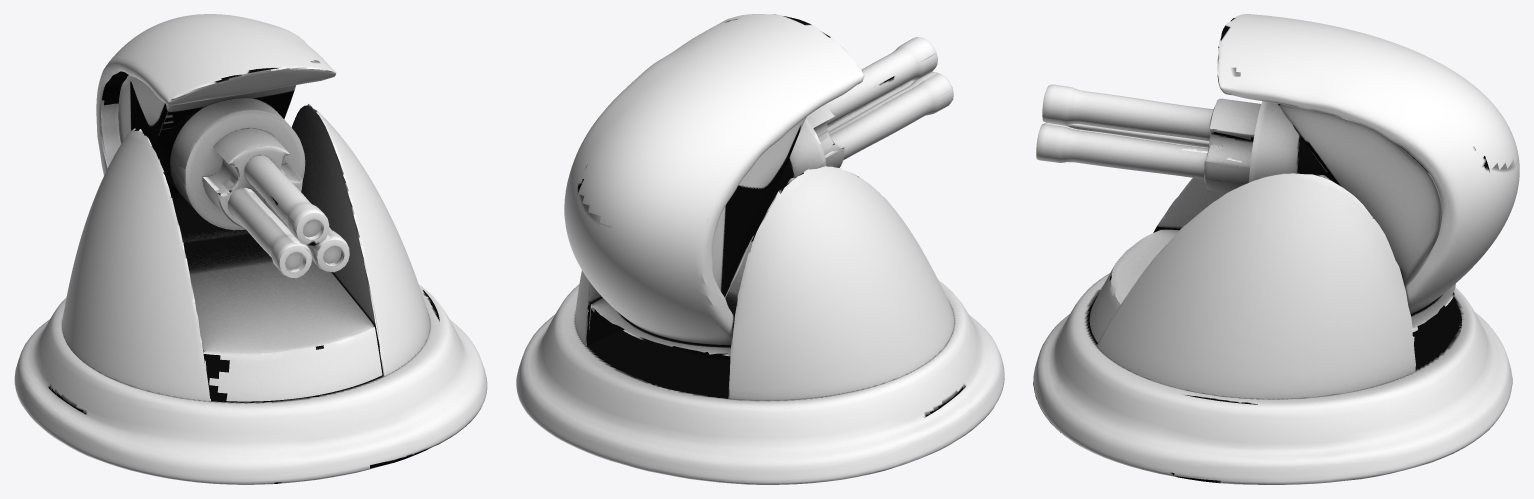
Rendered from torreta.fbx.
The picture shows the model from 3 angles, left to right: view 1: azimuth 30°, elevation 25°; view 2: azimuth 150°, elevation 25°; view 3: azimuth 270°, elevation 25°; orthographic projection. The views are drawn at different scales.
Parts seen in each view (by area): view 1: Retopo_Sphere_2, Retopo_Sphere, Retopo_cañon; view 2: Retopo_cañon, Retopo_Sphere, Retopo_Sphere_2; view 3: Retopo_cañon, Retopo_Sphere_2, Retopo_Sphere.
Boxes of the visible parts, x1,y1,x2,y2 form: Retopo_Sphere_2: (62,104,430,401); Retopo_Sphere: (14,285,487,484); Retopo_cañon: (96,14,349,278); Retopo_cañon: (564,14,953,359); Retopo_Sphere: (516,280,1004,484); Retopo_Sphere_2: (575,166,954,400); Retopo_cañon: (1036,14,1519,314); Retopo_Sphere_2: (1089,173,1455,399); Retopo_Sphere: (1033,273,1512,484).
Bounding box in the file's own units: 85.7 × 68.41 × 86.89.
